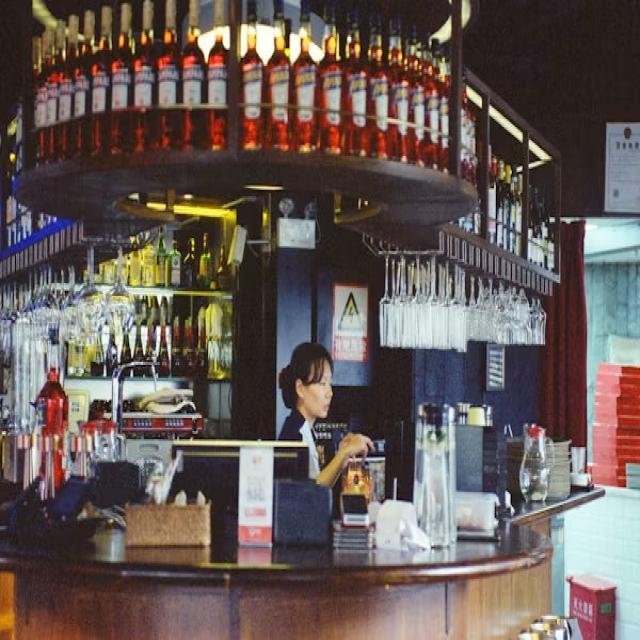Bottle: (36, 330, 68, 488), (264, 0, 291, 151), (182, 0, 209, 149), (317, 0, 343, 154), (157, 0, 182, 149), (110, 2, 134, 154), (345, 10, 369, 157), (293, 0, 316, 152), (134, 0, 157, 152), (240, 0, 263, 149), (367, 15, 389, 159), (207, 0, 228, 149), (57, 15, 78, 160), (91, 5, 111, 155), (74, 10, 94, 155), (389, 17, 409, 162), (45, 21, 65, 160), (406, 26, 425, 165), (37, 28, 54, 164), (423, 37, 439, 168), (32, 37, 45, 165), (439, 54, 450, 173), (460, 70, 471, 181), (487, 156, 498, 244), (512, 174, 523, 255), (501, 165, 511, 250), (182, 237, 198, 289), (509, 173, 519, 255), (199, 232, 213, 289), (183, 317, 196, 377), (528, 187, 538, 263), (167, 238, 182, 287), (171, 316, 183, 377), (157, 322, 170, 377), (155, 227, 167, 286), (496, 160, 504, 247), (128, 235, 141, 286), (142, 235, 155, 286), (217, 243, 231, 289), (196, 324, 207, 381), (90, 332, 104, 376), (105, 330, 118, 377), (144, 316, 155, 363), (134, 314, 143, 361), (548, 219, 555, 271), (121, 332, 132, 365)
